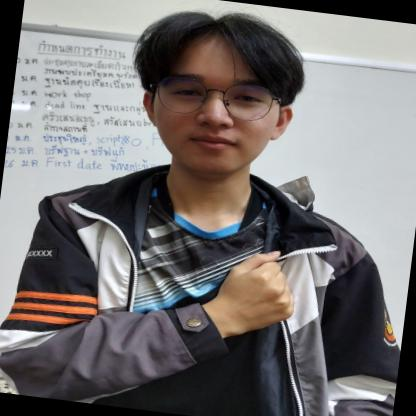Sad: (183, 236, 333, 353)
